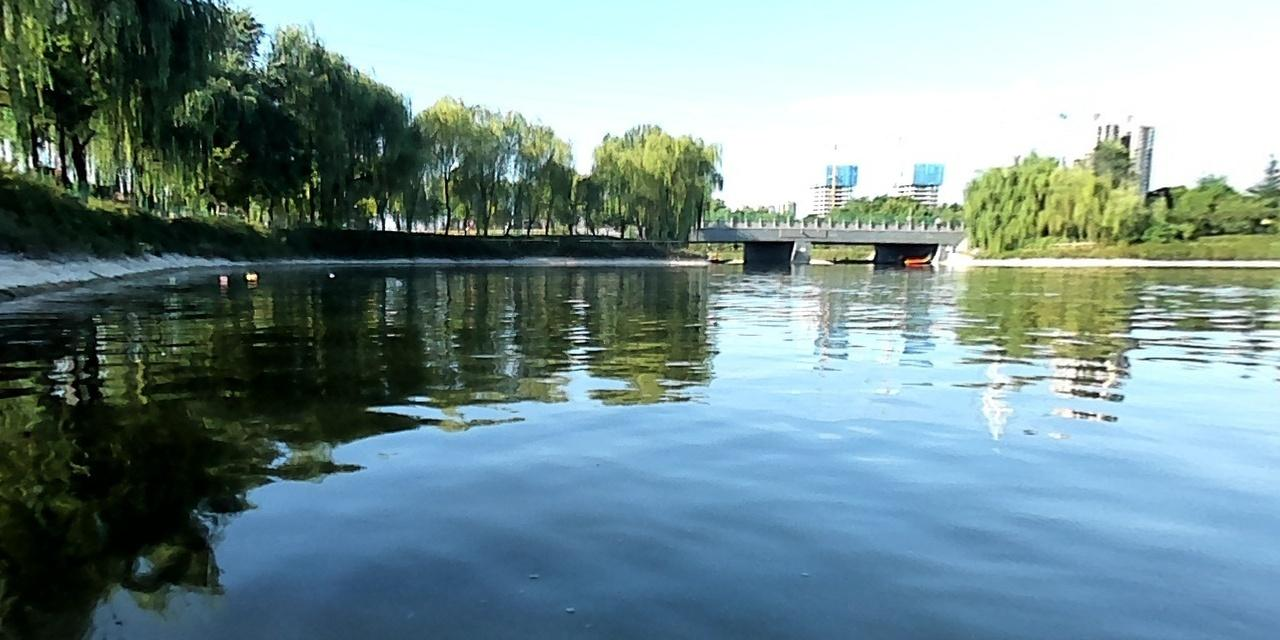bottle: (241, 270, 258, 280), (216, 273, 228, 282)
